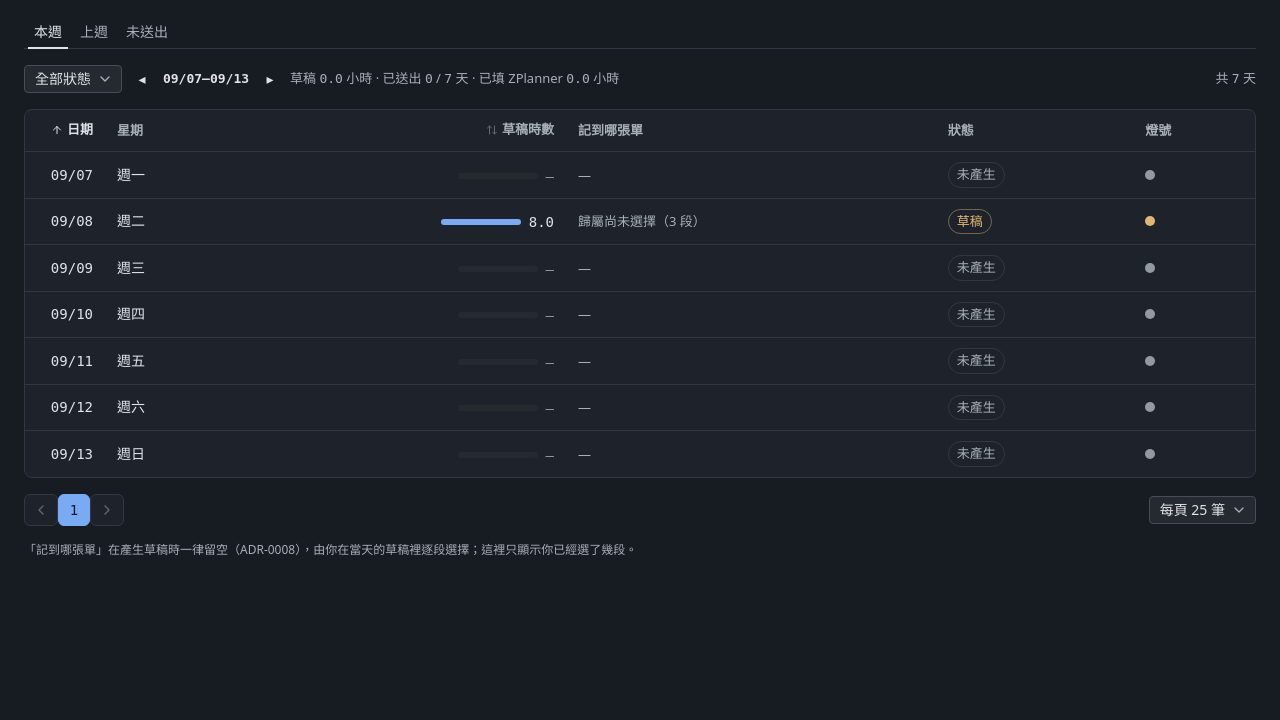
Test: tabs › 🔴 未送出：上週載入失敗時不畫半份（只剩本週會讓人以為上週都交代完了）
Click the tab "未送出": (147, 32) [119,20,175,44]
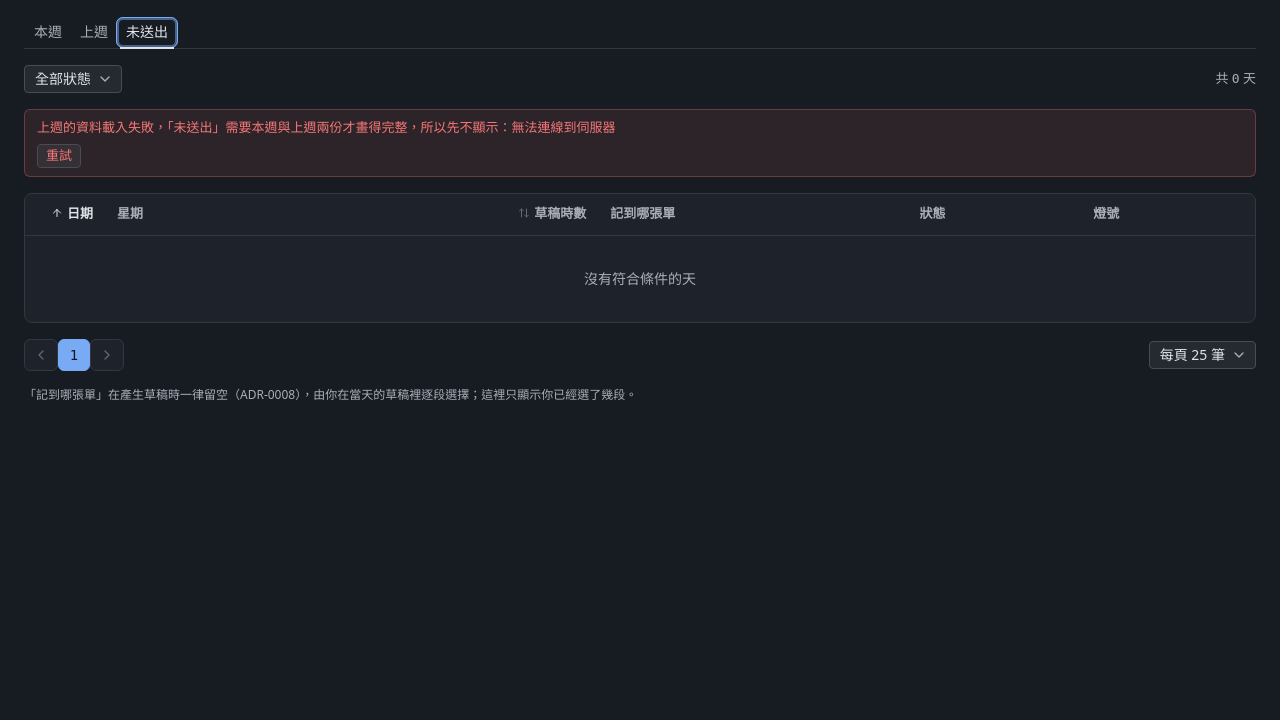
Now the message shows "上週的資料載入失敗", box [37,118,512,136]
Now the text "09/08" is gone
Now the button "重試" is shown, box [37,144,81,168]
